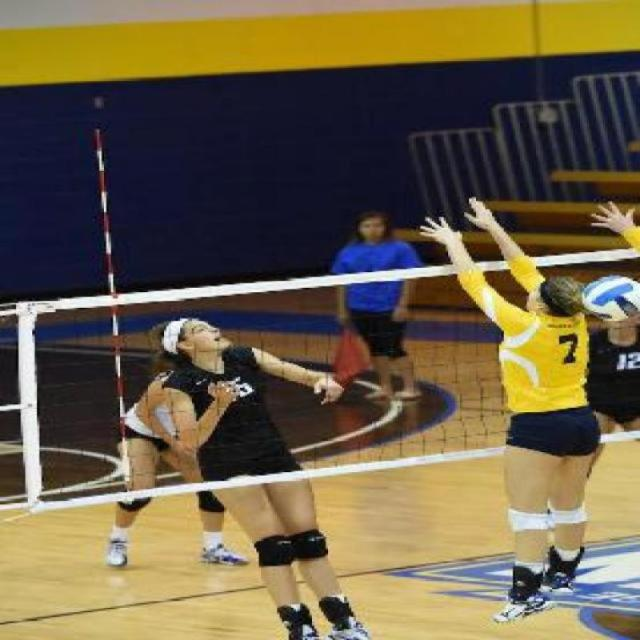volleyball: (578, 275, 638, 320)
